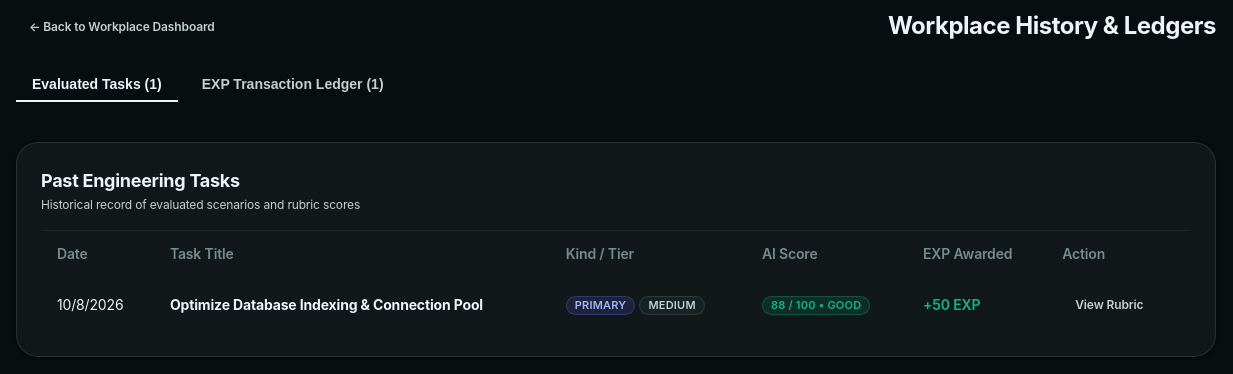
Scenario: Task History & EXP Ledger Page › renders history items and toggles to double-entry EXP ledger
Expected: the table with test id "task-history-table" is shown, [41, 231, 1191, 332]
Expected: the text "88 / 100 • GOOD" is shown, [771, 300, 861, 311]
# Toggle to EXP Ledger tab
Click the button with test id "tab-ledger": click(293, 85) [186, 68, 400, 102]
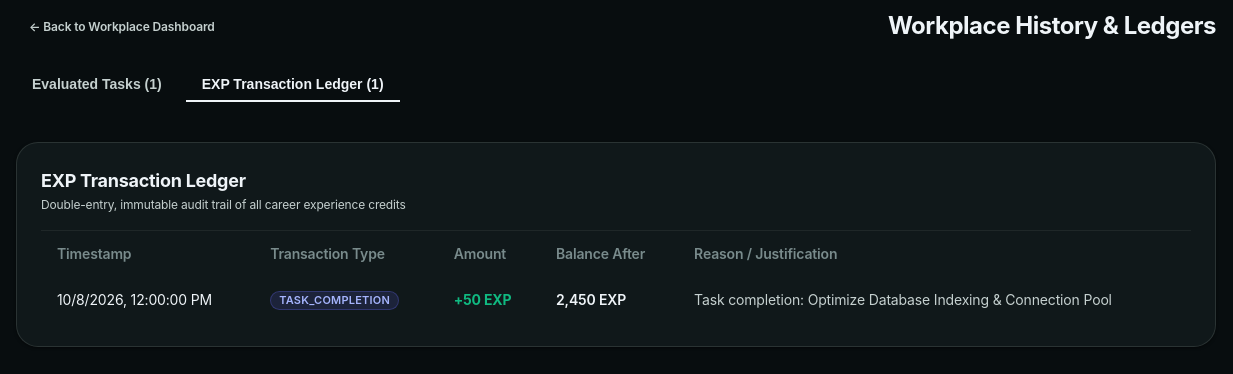
Expected: the table with test id "exp-ledger-table" is shown, [41, 231, 1191, 322]
Expected: the text "TASK_COMPLETION" is shown, [279, 295, 390, 306]
Expected: the text "2,450 EXP" is shown, [540, 276, 678, 322]
